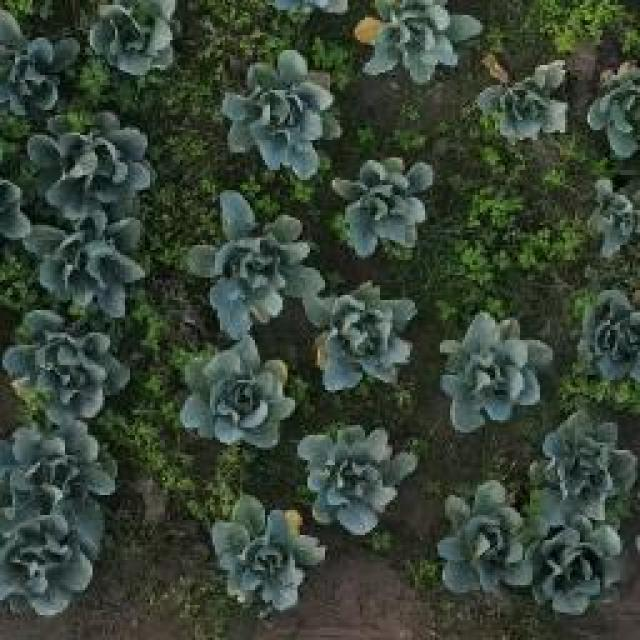cabbage: (187, 187, 321, 331), (18, 212, 154, 310), (438, 312, 550, 430), (298, 402, 410, 520), (28, 114, 158, 215), (12, 302, 122, 420), (220, 50, 330, 168), (312, 277, 422, 395), (0, 421, 124, 524), (176, 343, 292, 453), (208, 504, 326, 612), (0, 510, 112, 620), (350, 0, 481, 80), (529, 517, 625, 624), (332, 157, 432, 255), (438, 490, 536, 590), (538, 409, 628, 514), (471, 62, 572, 150), (0, 12, 82, 110), (85, 0, 178, 78), (576, 280, 640, 377), (592, 177, 640, 255), (591, 81, 640, 154)
